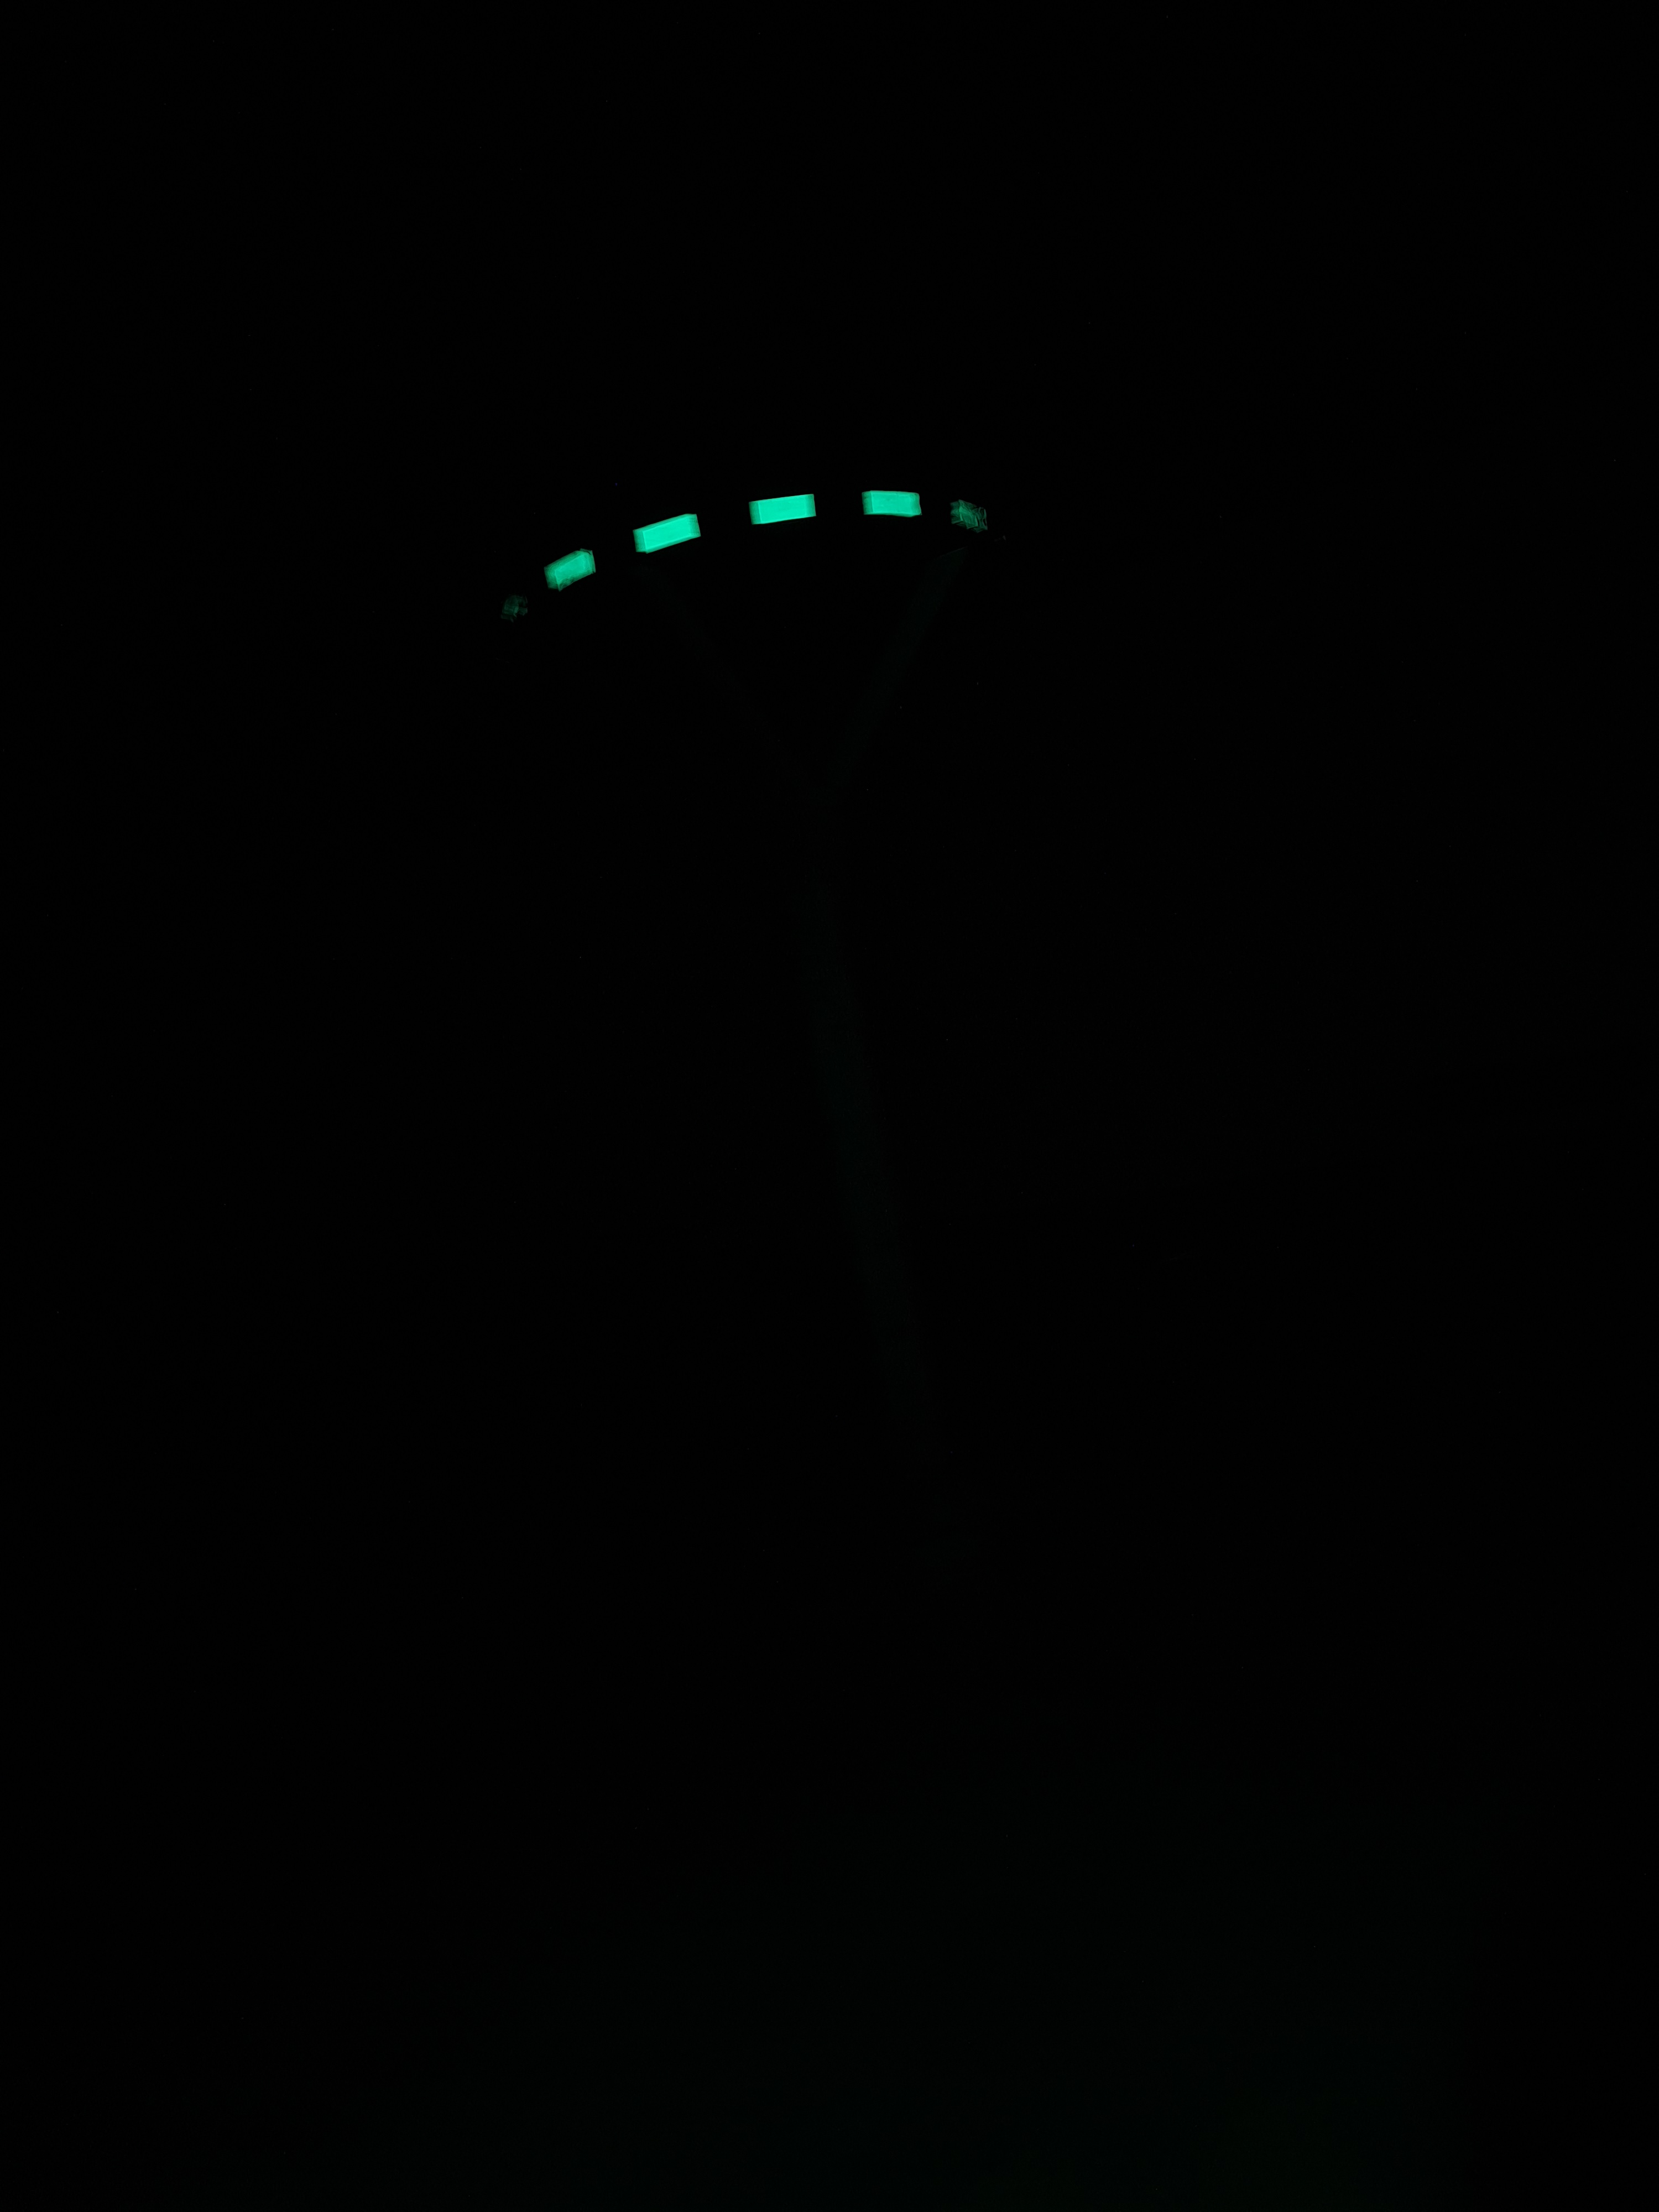hoop: (486, 488, 988, 624)
